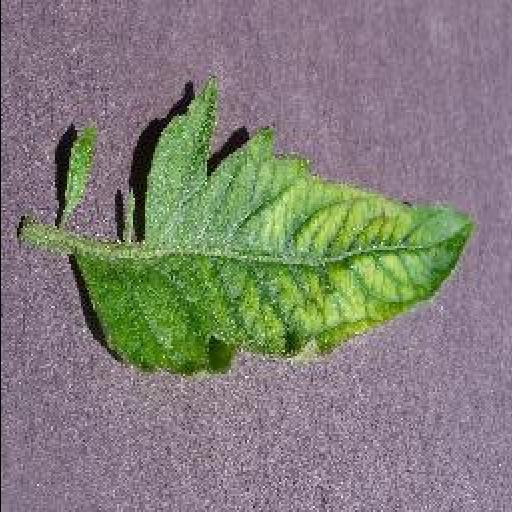disease_tomato: (76, 80, 474, 378)
